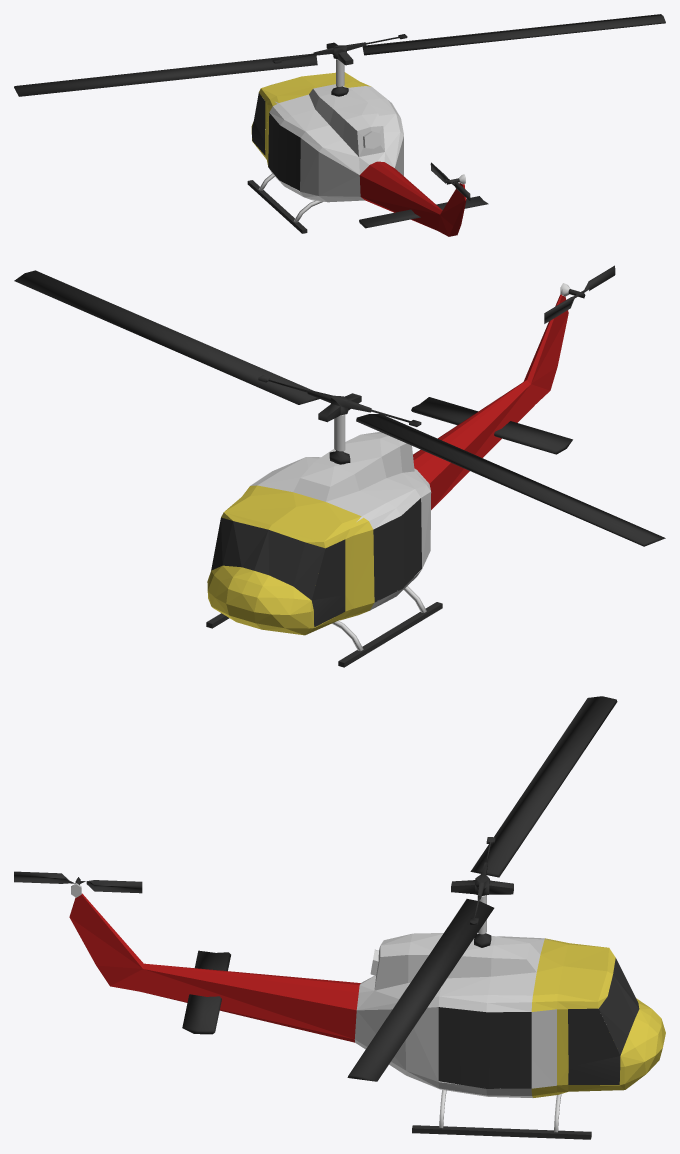
File: helicopter-google.glb
3 views of the same model, one above another, from view 1: azimuth 30°, elevation 25°; view 2: azimuth 150°, elevation 25°; view 3: azimuth 270°, elevation 25° (orthographic). The views are drawn at different scales.
Visible parts, largest first — view 1: Object013, Box04_Box014, Box20183, Object011, Cylinder005, Object012, Box01_Box003, Box20182, Cylinder007; view 2: Object013, Box20183, Box04_Box014, Object011, Object012, Object015, Cylinder005, Box01_Box003, Box20182, Box20184, Cylinder007; view 3: Object013, Object018, Box20183, Box04_Box014, Object017, Object016, Box20180, Cylinder005, Cylinder007, Box20184.
Part boxes in pixels (x1,y1,x2,y2): Object013: (251,72,466,236); Box04_Box014: (14,54,317,96); Box20183: (362,14,665,55); Object011: (268,113,300,190); Cylinder005: (272,34,407,96); Object012: (252,93,265,155); Box01_Box003: (359,209,420,228); Box20182: (247,180,307,233); Cylinder007: (430,162,470,200); Object013: (207,294,568,635); Box20183: (14,270,319,404); Box04_Box014: (356,414,665,546); Object011: (373,498,421,602); Object012: (311,539,345,627); Object015: (353,530,374,608); Cylinder005: (258,375,421,464); Box01_Box003: (494,421,572,454); Box20182: (338,602,442,667); Box20184: (411,397,478,425); Cylinder007: (544,265,615,323); Object013: (69,893,665,1097); Object018: (438,1007,531,1088); Box20183: (347,899,494,1081); Box04_Box014: (470,696,617,877); Object017: (568,1008,620,1084); Object016: (531,1009,556,1088); Box20180: (412,1125,591,1139); Cylinder005: (451,837,513,947); Cylinder007: (14,871,142,893); Box20184: (182,994,221,1034).
Bounding box in the file's own units: 946 × 252 × 679.
